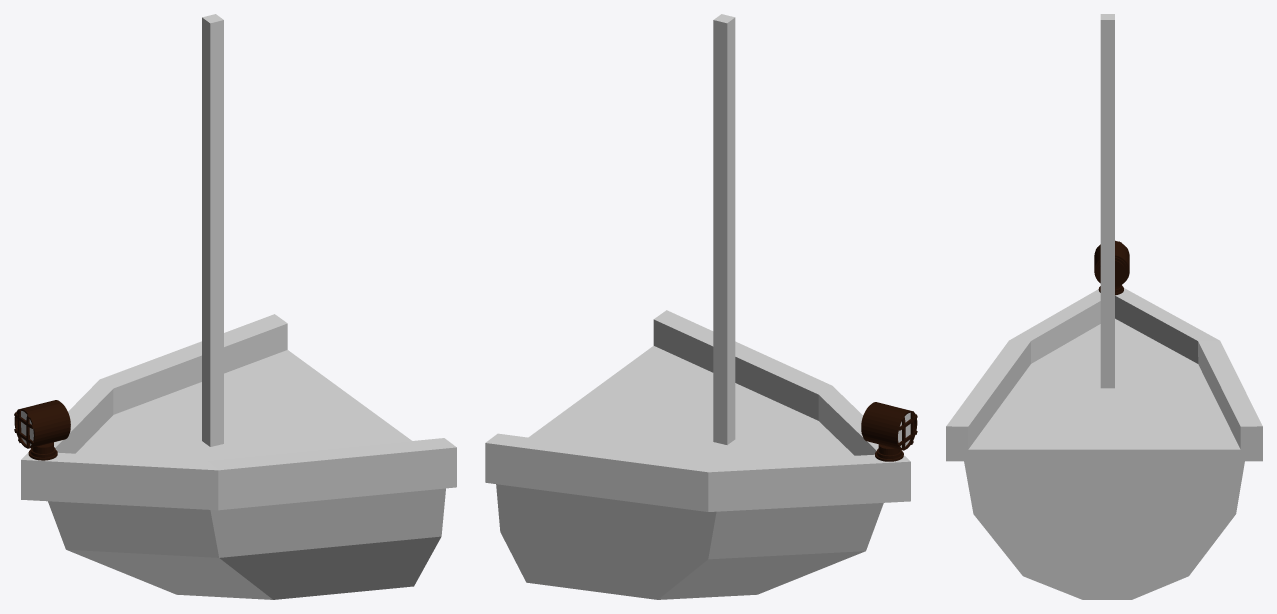
The model's file is Barco_Trencat_Partit_1.fbx.
3 views of the same model, side by side, from view 1: azimuth 30°, elevation 25°; view 2: azimuth 150°, elevation 25°; view 3: azimuth 270°, elevation 25° (orthographic). The views are drawn at different scales.
Visible parts, largest first — view 1: Barco, Faro; view 2: Barco, Faro; view 3: Barco, Faro.
Boxes of the visible parts, x1=… form: Barco: x1=21, y1=14, x2=456, y2=599; Faro: x1=14, y1=400, x2=70, y2=460; Barco: x1=485, y1=14, x2=910, y2=599; Faro: x1=861, y1=402, x2=917, y2=461; Barco: x1=946, y1=14, x2=1262, y2=599; Faro: x1=1094, y1=240, x2=1129, y2=295.
Size of the model in its own units: 1872 by 3110 by 1723.
